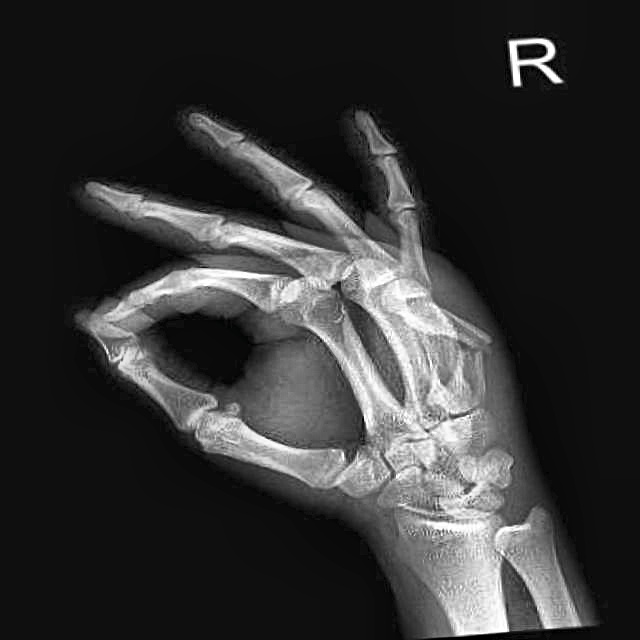Oblique: (389, 287, 509, 405)
